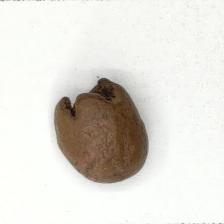NG: (55, 78, 122, 119)
